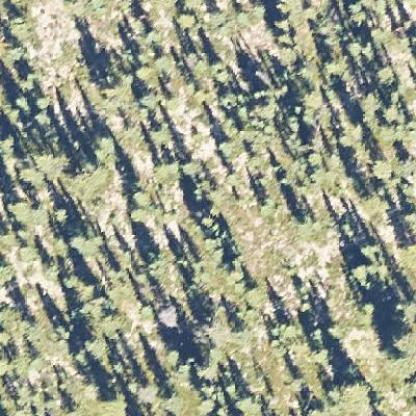tree-top: (150, 154, 183, 184), (192, 350, 222, 380), (90, 126, 116, 153), (356, 236, 384, 260), (172, 4, 200, 28), (289, 206, 317, 228), (356, 88, 380, 112), (136, 85, 161, 108), (63, 224, 86, 248), (348, 258, 370, 280), (14, 70, 36, 92), (387, 345, 408, 366)
